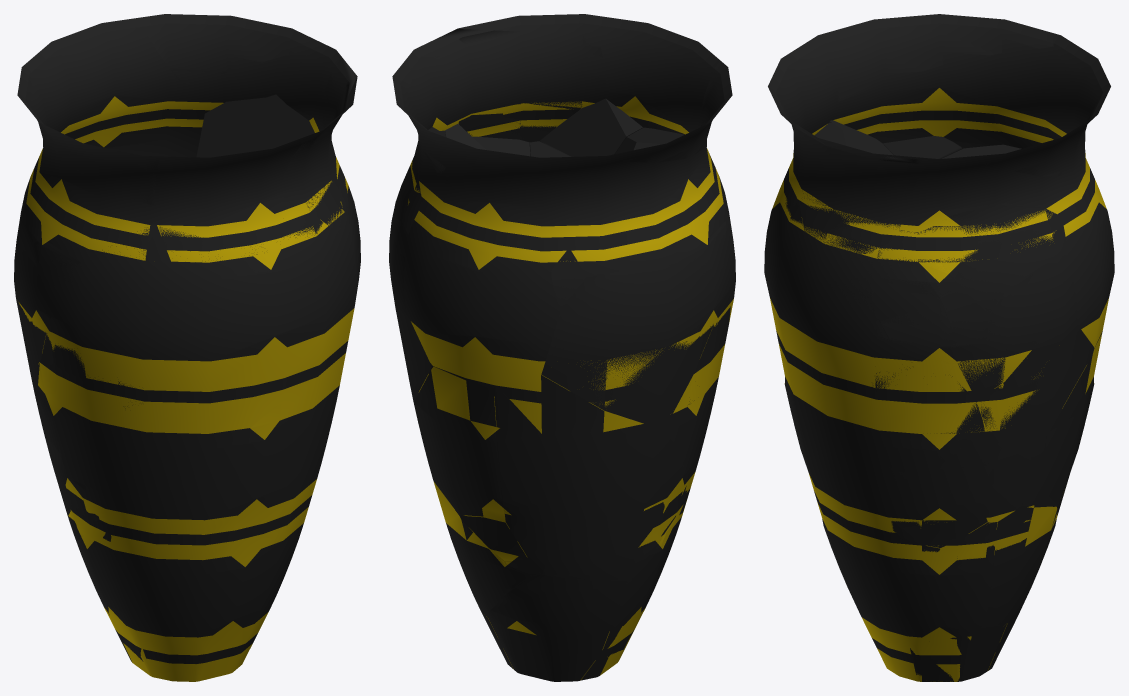
Rendered from breakeble jarron.fbx.
3 renders of one model, left to right at view 1: azimuth 30°, elevation 25°; view 2: azimuth 150°, elevation 25°; view 3: azimuth 270°, elevation 25°, orthographic.
Visible parts, largest first — view 1: Jarro De Barro, Jarro De Barro_cell.016, Jarro De Barro_cell.001, Jarro De Barro_cell.014, Jarro De Barro_cell.055, Jarro De Barro_cell.023, Jarro De Barro_cell.020, Jarro De Barro_cell.061, Jarro De Barro_cell.050, Jarro De Barro_cell.015, Jarro De Barro_cell.074, Jarro De Barro_cell.072; view 2: Jarro De Barro, Jarro De Barro_cell.061, Jarro De Barro_cell.055, Jarro De Barro_cell.031, Jarro De Barro_cell.051, Jarro De Barro_cell.014, Jarro De Barro_cell.032, Jarro De Barro_cell.066, Jarro De Barro_cell.020, Jarro De Barro_cell.072, Jarro De Barro_cell.045, Jarro De Barro_cell.023 (+8 smaller); view 3: Jarro De Barro, Jarro De Barro_cell.001, Jarro De Barro_cell.014, Jarro De Barro_cell.023, Jarro De Barro_cell.004, Jarro De Barro_cell.017, Jarro De Barro_cell.066, Jarro De Barro_cell.051, Jarro De Barro_cell.069, Jarro De Barro_cell.056, Jarro De Barro_cell.058, Jarro De Barro_cell.047 (+8 smaller).
Part boxes in pixels (x1,y1,x2,y2): Jarro De Barro: (18,17,360,681); Jarro De Barro_cell.016: (141,14,324,83); Jarro De Barro_cell.001: (196,94,314,157); Jarro De Barro_cell.014: (283,56,356,233); Jarro De Barro_cell.055: (14,188,57,392); Jarro De Barro_cell.023: (17,71,159,204); Jarro De Barro_cell.020: (37,333,101,489); Jarro De Barro_cell.061: (33,386,99,544); Jarro De Barro_cell.050: (33,240,80,291); Jarro De Barro_cell.015: (66,224,170,329); Jarro De Barro_cell.074: (159,226,294,334); Jarro De Barro_cell.072: (78,532,148,665); Jarro De Barro: (391,14,735,680); Jarro De Barro_cell.061: (494,375,687,580); Jarro De Barro_cell.055: (541,261,724,427); Jarro De Barro_cell.031: (488,574,625,681); Jarro De Barro_cell.051: (414,366,505,521); Jarro De Barro_cell.014: (424,29,605,141); Jarro De Barro_cell.032: (540,98,642,156); Jarro De Barro_cell.066: (434,482,530,598); Jarro De Barro_cell.020: (665,306,730,474); Jarro De Barro_cell.072: (602,500,686,656); Jarro De Barro_cell.045: (460,515,528,561); Jarro De Barro_cell.023: (621,60,732,162); Jarro De Barro: (764,29,1114,681); Jarro De Barro_cell.001: (920,201,1067,313); Jarro De Barro_cell.014: (793,127,923,257); Jarro De Barro_cell.023: (808,14,1053,101); Jarro De Barro_cell.004: (978,325,1094,447); Jarro De Barro_cell.017: (987,255,1077,347); Jarro De Barro_cell.066: (985,506,1057,624); Jarro De Barro_cell.051: (1022,334,1101,507); Jarro De Barro_cell.069: (870,242,956,372); Jarro De Barro_cell.056: (922,522,997,639); Jarro De Barro_cell.058: (981,446,1032,522); Jarro De Barro_cell.047: (891,495,987,547).
Bounding box in the file's own units: 127 × 230 × 127.
